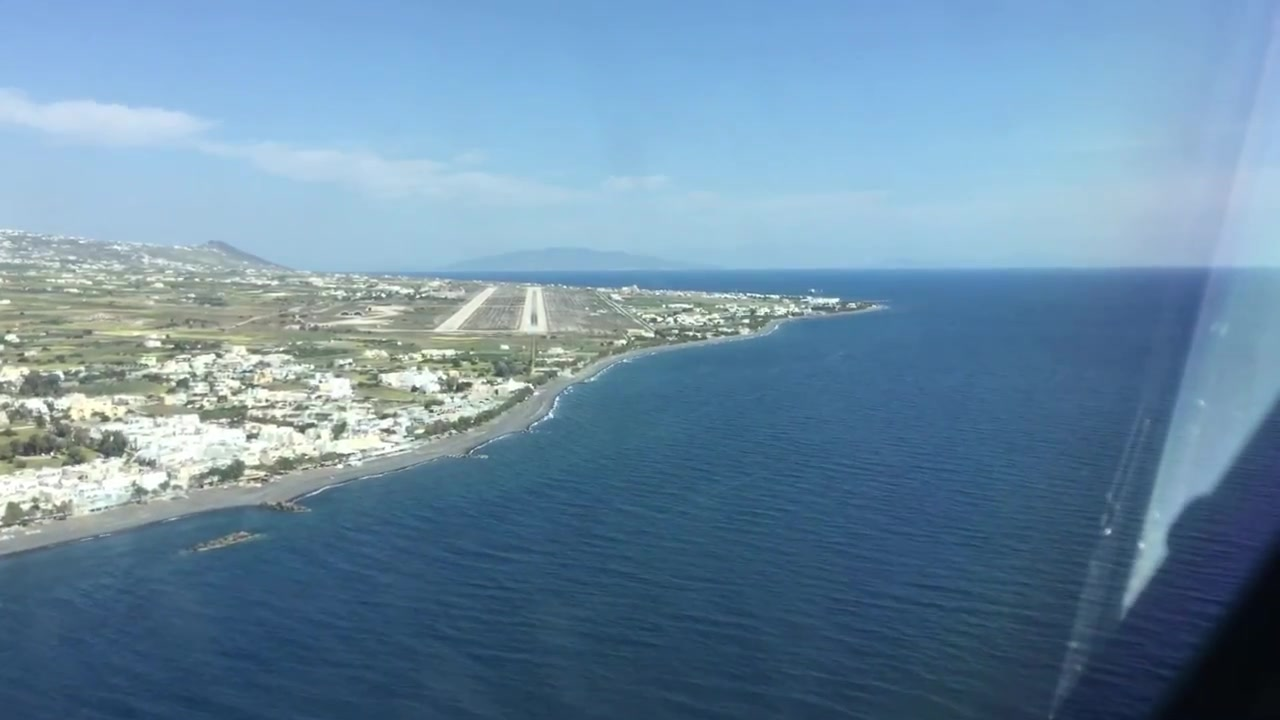runway: (433, 286, 497, 331), (518, 286, 549, 331)
